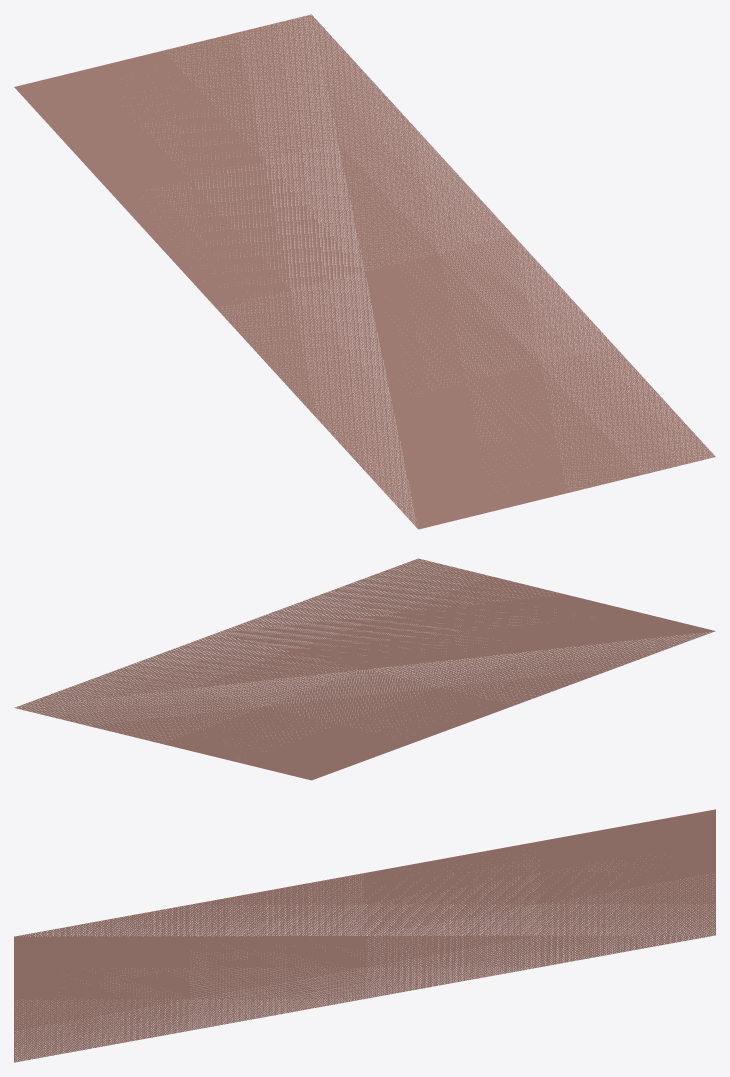
The model's file is SW_ENV_RailTunnelCeiling_TrackRise_Double_20m_Collision.fbx.
3 views of the same model, one above another, from view 1: azimuth 30°, elevation 25°; view 2: azimuth 150°, elevation 25°; view 3: azimuth 270°, elevation 25° (orthographic). The views are drawn at different scales.
Parts seen in each view (by area): view 1: SW_ENV_RailTunnelCeiling_TrackRise_Double_20m_Collision; view 2: SW_ENV_RailTunnelCeiling_TrackRise_Double_20m_Collision; view 3: SW_ENV_RailTunnelCeiling_TrackRise_Double_20m_Collision.
Part boxes in pixels (left/top/right/bottom): SW_ENV_RailTunnelCeiling_TrackRise_Double_20m_Collision: left=14, top=14, right=715, bottom=529; SW_ENV_RailTunnelCeiling_TrackRise_Double_20m_Collision: left=14, top=558, right=715, bottom=780; SW_ENV_RailTunnelCeiling_TrackRise_Double_20m_Collision: left=14, top=809, right=715, bottom=1062.
Bounding box in the file's own units: 850 × 400 × 2000.
